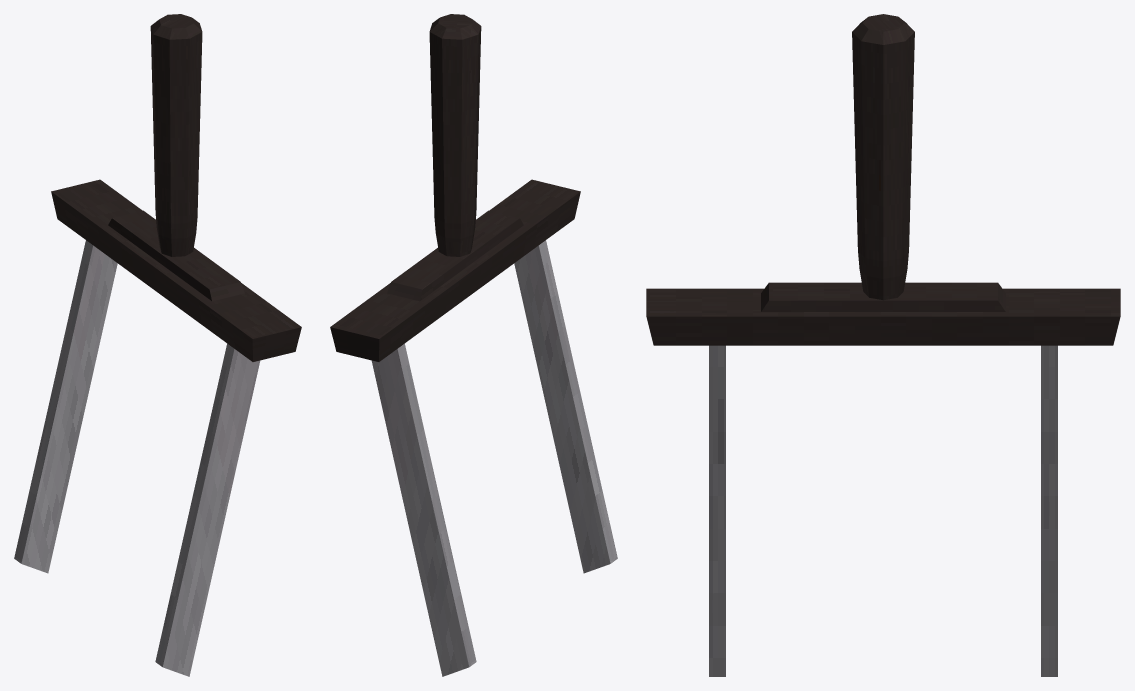
File: handle.glb
3 renders of one model, left to right at view 1: azimuth 30°, elevation 25°; view 2: azimuth 150°, elevation 25°; view 3: azimuth 270°, elevation 25°, orthographic. The views are drawn at different scales.
Parts seen in each view (by area): view 1: switch_blade; view 2: switch_blade; view 3: switch_blade.
Part boxes in pixels (<box>): switch_blade: <box>14,14,301,676</box>; switch_blade: <box>330,14,617,676</box>; switch_blade: <box>646,14,1120,676</box>.
Bounding box in the file's own units: 0.056 × 0.2786 × 0.1737.
2 materials, 2 textured.
